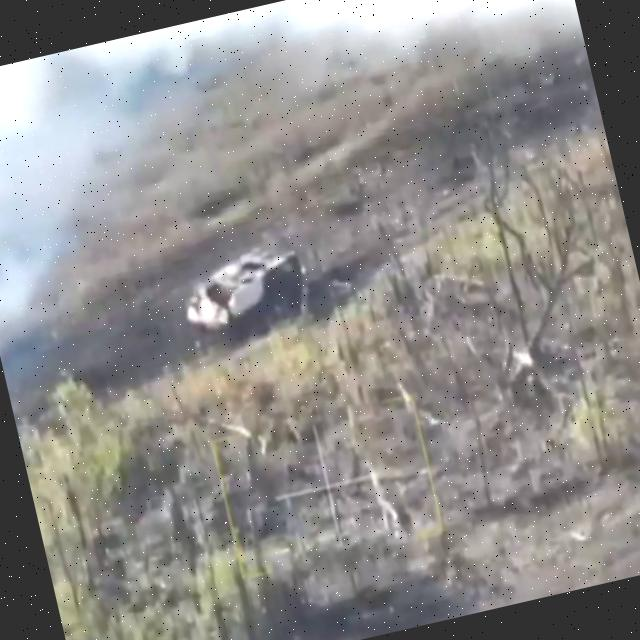APC: (178, 240, 315, 345)
